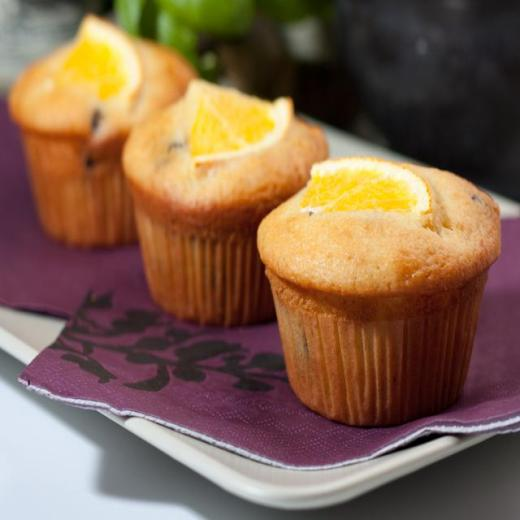Grape: (53, 13, 144, 112), (189, 84, 294, 169), (300, 155, 432, 215)
